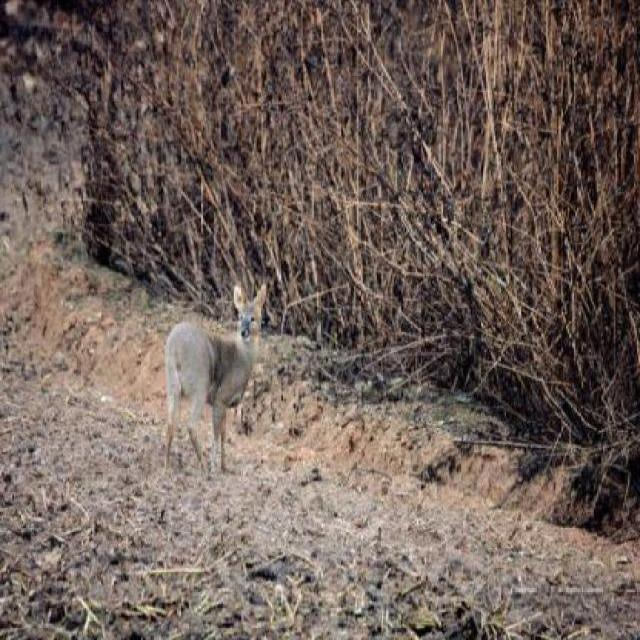deer: (161, 282, 269, 473)
